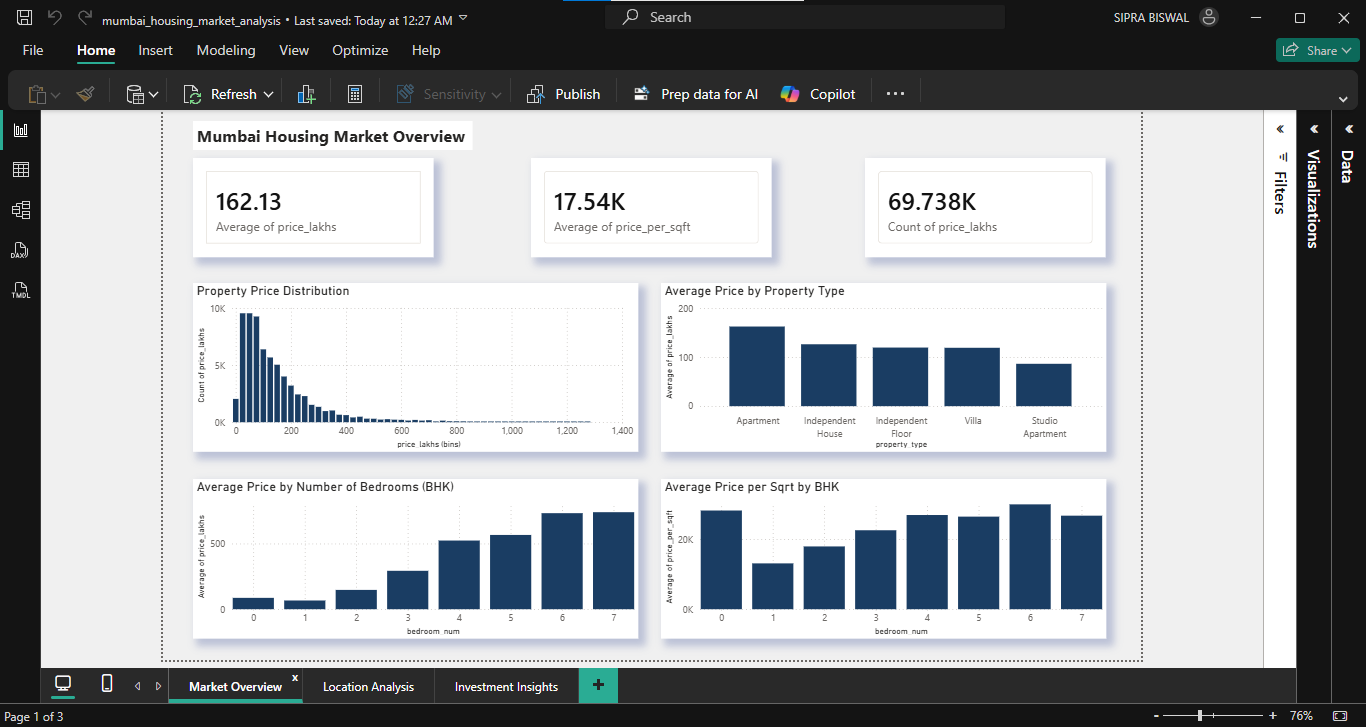

The page's visual inventory and layout, read from the dashboard file:
{"tool":"powerbi","page":{"name":"Market Overview","canvas":[1280,720],"ordinal":0},"visuals":[{"type":"cardVisual","fields":{"Data":["Avg(Mumbai_housing_market_data.price_lakhs)"]},"box":[39.3,62.8,315.5,129.6],"z":0},{"type":"cardVisual","fields":{"Data":["Avg(Mumbai_housing_market_data.price_per_sqft)"]},"box":[481.7,62.8,315.5,129.6],"z":1000},{"type":"cardVisual","fields":{"Data":["CountNonNull(Mumbai_housing_market_data.price_lakhs)"]},"box":[919,62.8,315.5,129.6],"z":2000},{"type":"clusteredColumnChart","title":"Property Price Distribution","fields":{"Category":["Mumbai_housing_market_data.price_lakhs (bins)"],"Y":["CountNonNull(Mumbai_housing_market_data.price_lakhs)"]},"box":[39.3,226.5,582.5,221.2],"z":3000},{"type":"clusteredColumnChart","title":"Average Price by Property Type","fields":{"Category":["Mumbai_housing_market_data.property_type"],"Y":["Avg(Mumbai_housing_market_data.price_lakhs)"]},"box":[651.9,226.5,582.5,221.2],"z":4000},{"type":"clusteredColumnChart","title":"Average Price by Number of  Bedrooms (BHK)","fields":{"Category":["Mumbai_housing_market_data.bedroom_num"],"Y":["Avg(Mumbai_housing_market_data.price_lakhs)"]},"box":[39.3,483.1,582.5,209.5],"z":5000},{"type":"clusteredColumnChart","title":"Average Price per Sqrt by BHK","fields":{"Category":["Mumbai_housing_market_data.bedroom_num"],"Y":["Avg(Mumbai_housing_market_data.price_per_sqft)"]},"box":[651.9,483.1,582.5,209.5],"z":6000},{"type":"textbox","box":[39.7,14.7,365.9,38.2],"z":7000}]}

Visuals, with their boxes on the page's 1280x720 design canvas (x1, y1, x2, y2). These are canvas units, not pixel positions in the 1366x727 screenshot, which may show the page scaled, cropped or inside an application window:
cardVisual - Avg(Mumbai_housing_market_data.price_lakhs): <region>39, 63, 355, 192</region>
cardVisual - Avg(Mumbai_housing_market_data.price_per_sqft): <region>482, 63, 797, 192</region>
cardVisual - CountNonNull(Mumbai_housing_market_data.price_lakhs): <region>919, 63, 1234, 192</region>
"Property Price Distribution" clusteredColumnChart: <region>39, 226, 622, 448</region>
"Average Price by Property Type" clusteredColumnChart: <region>652, 226, 1234, 448</region>
"Average Price by Number of  Bedrooms (BHK)" clusteredColumnChart: <region>39, 483, 622, 693</region>
"Average Price per Sqrt by BHK" clusteredColumnChart: <region>652, 483, 1234, 693</region>
textbox: <region>40, 15, 406, 53</region>
